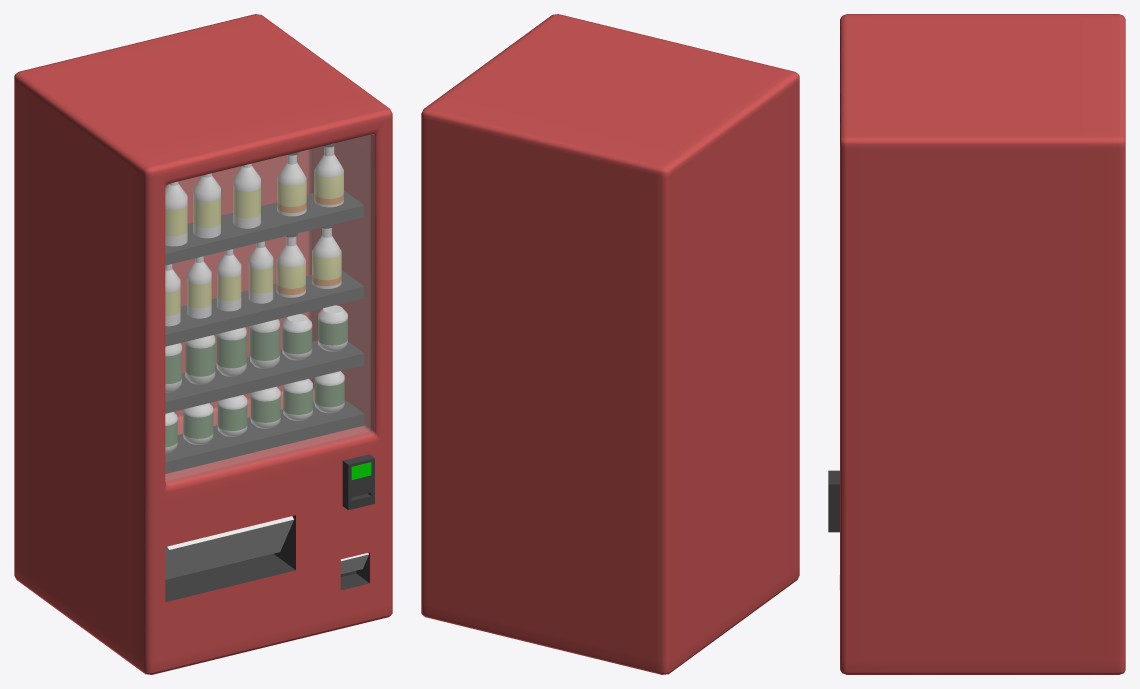
File: vending machine#2.fbx
3 views of the same model, side by side, from view 1: azimuth 30°, elevation 25°; view 2: azimuth 150°, elevation 25°; view 3: azimuth 270°, elevation 25° (orthographic). The views are drawn at different scales.
Parts seen in each view (by area): view 1: pCube52; view 2: pCube52; view 3: pCube52.
Boxes of the visible parts, left/top/right/bottom form: pCube52: left=14, top=14, right=392, bottom=674; pCube52: left=421, top=14, right=799, bottom=674; pCube52: left=828, top=14, right=1125, bottom=674.
Size of the model in its own units: 5.7 by 11.16 by 5.61.
